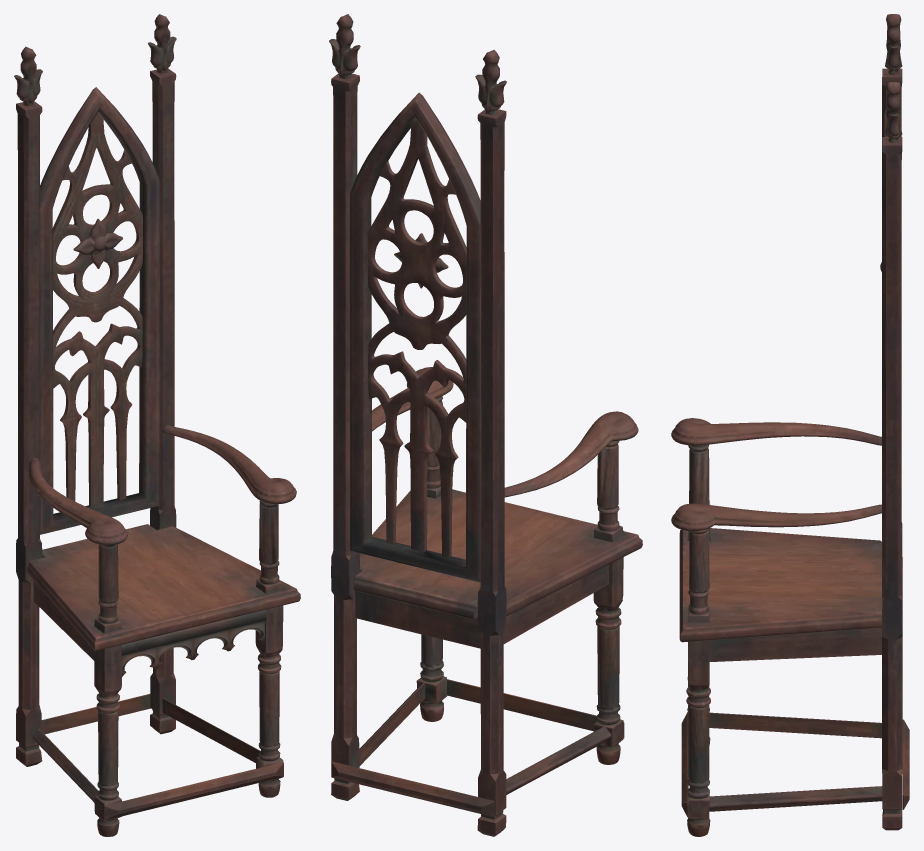
Rendered from WoodenChair_01.glb.
3 views of the same model, side by side, from view 1: azimuth 30°, elevation 25°; view 2: azimuth 150°, elevation 25°; view 3: azimuth 270°, elevation 25° (orthographic). The views are drawn at different scales.
Parts seen in each view (by area): view 1: WoodenChair_01; view 2: WoodenChair_01; view 3: WoodenChair_01.
Part boxes in pixels (x1,y1,x2,y2): WoodenChair_01: (14,14,300,836); WoodenChair_01: (329,14,642,836); WoodenChair_01: (671,14,909,836).
Size of the model in its own units: 0.6881 by 2.27 by 0.6584.
Materials: 1 (1 with a texture image).
